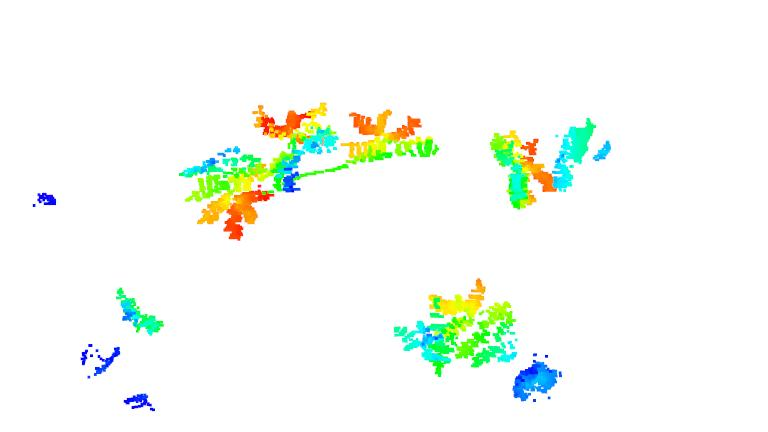chickpea: (167, 147, 298, 238), (428, 273, 522, 375), (490, 119, 599, 206), (233, 100, 345, 167), (337, 110, 449, 177), (384, 320, 459, 381), (111, 286, 172, 343)
